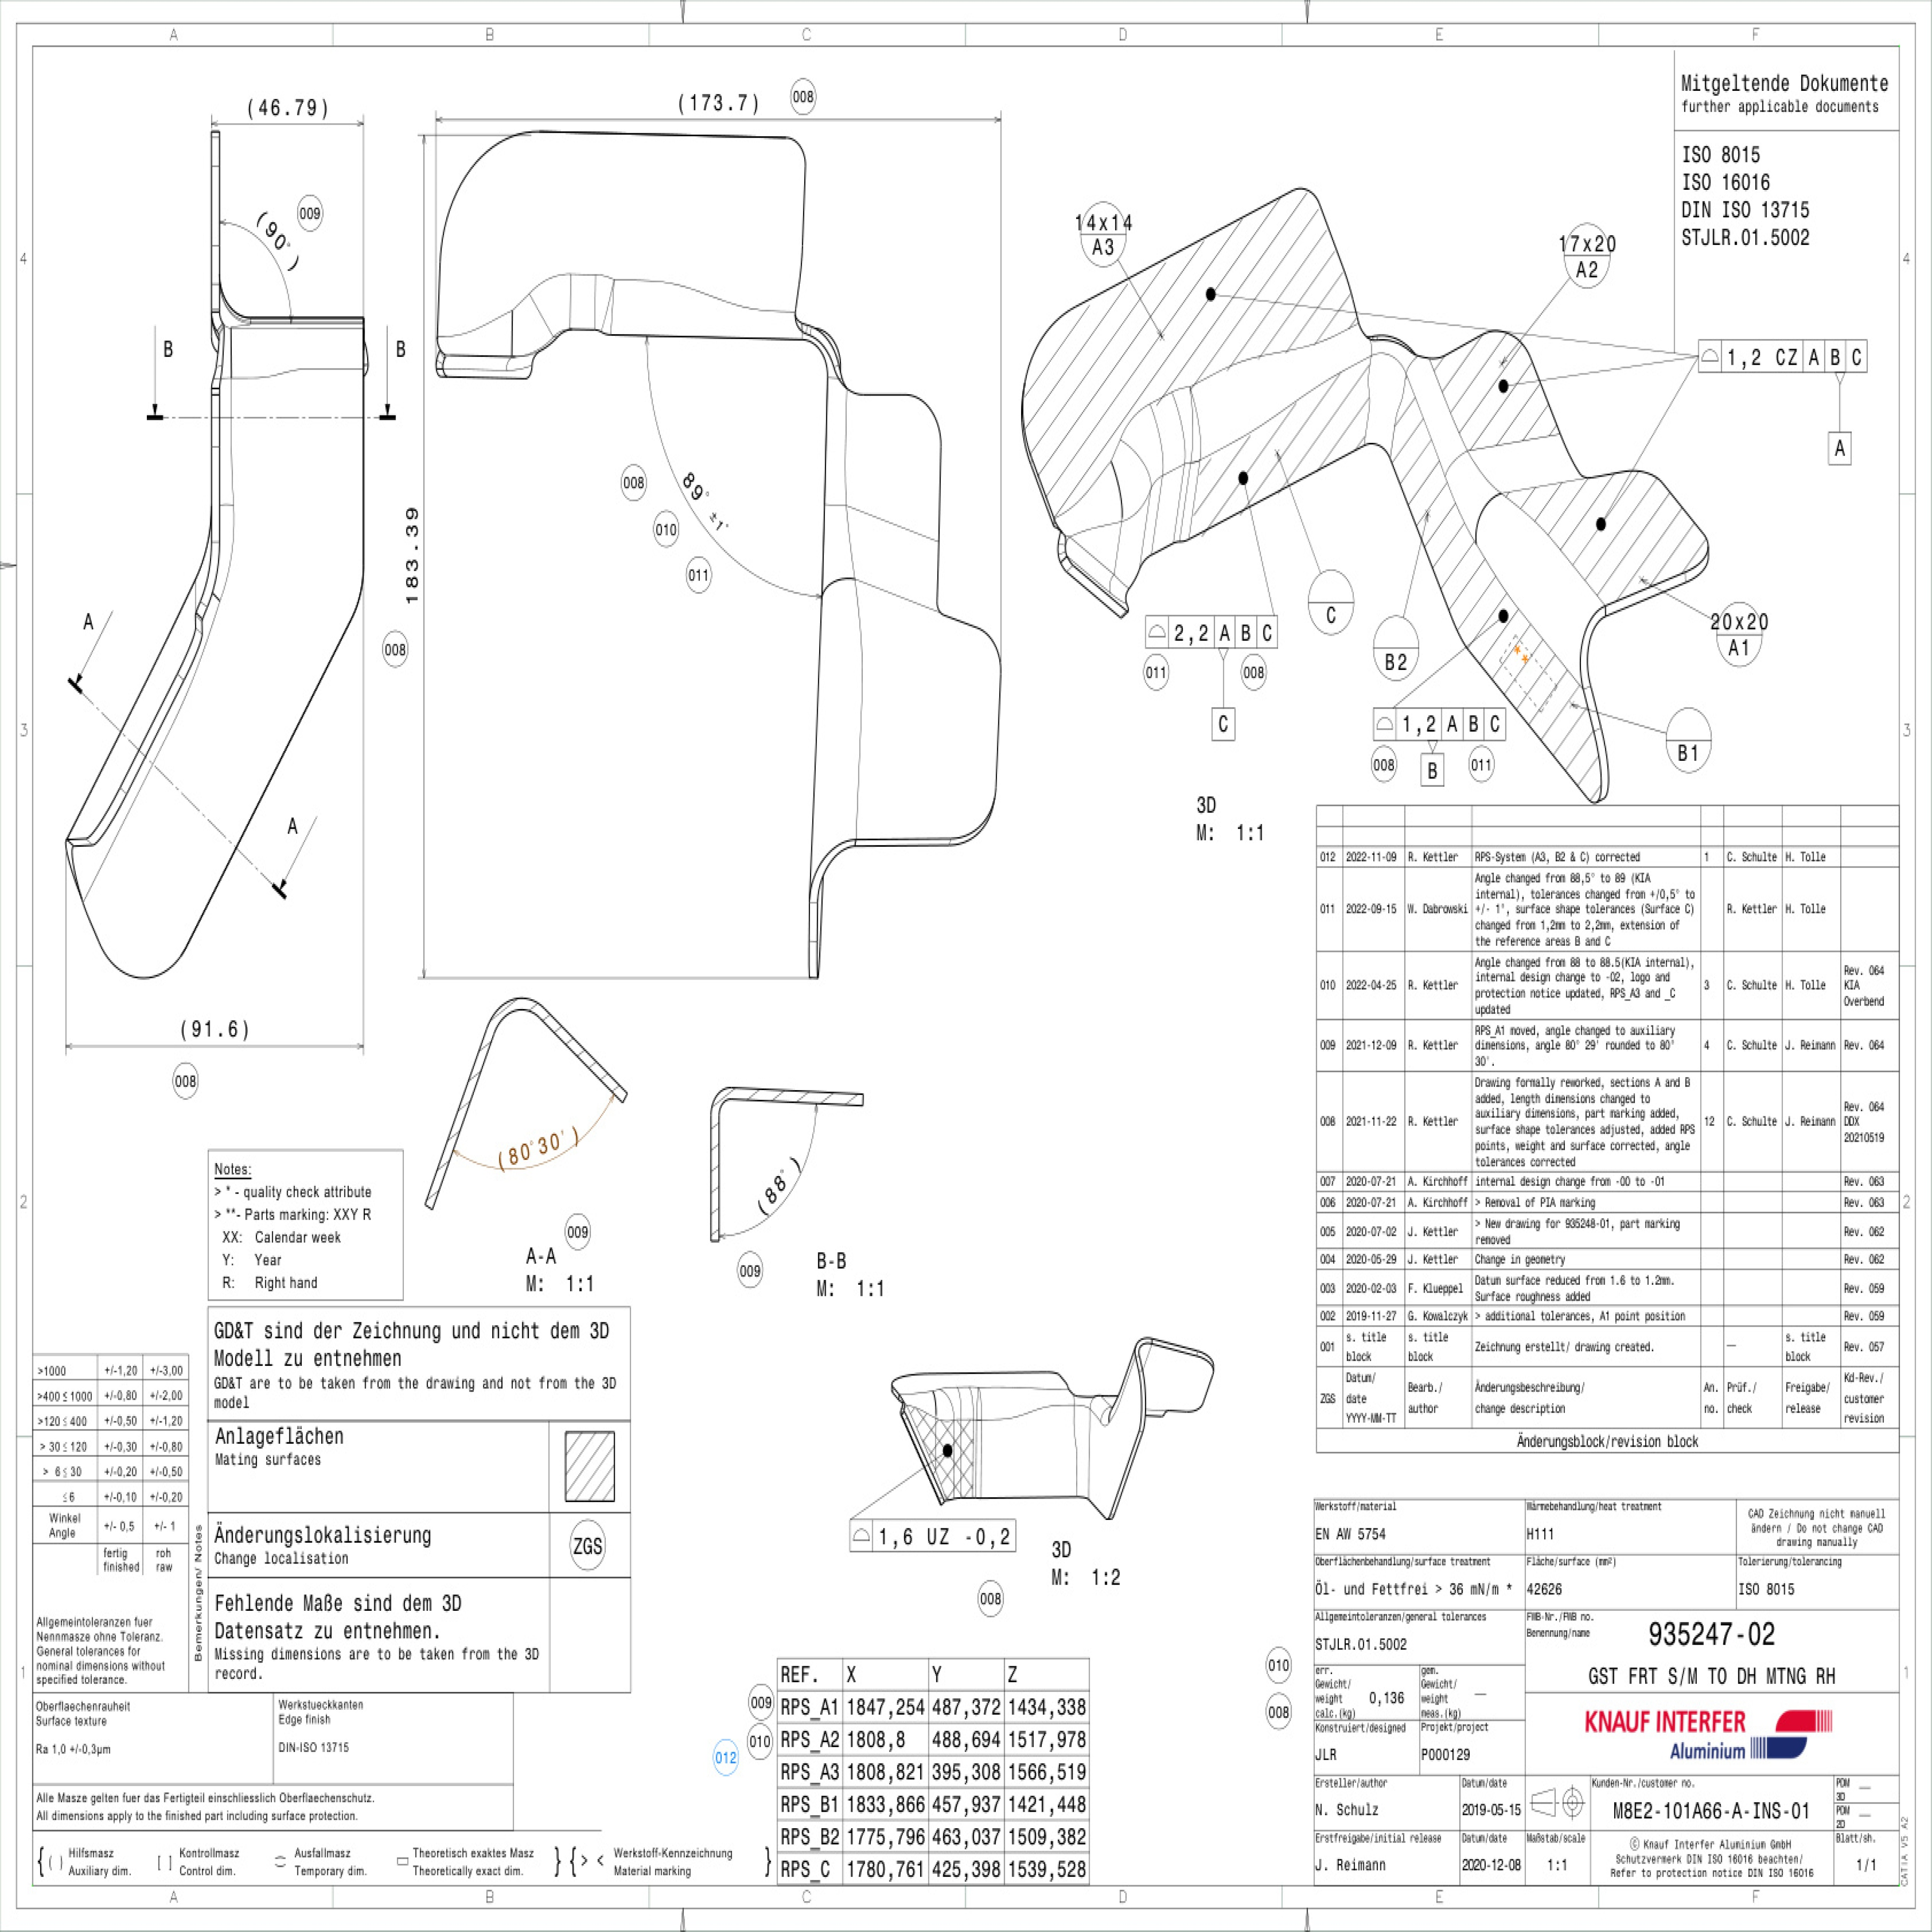BendingEdge: (1454, 485, 1619, 658), (1185, 311, 1385, 442), (801, 580, 865, 883), (610, 274, 800, 345), (1399, 356, 1476, 476), (1054, 469, 1136, 547), (485, 283, 561, 364), (525, 262, 584, 340), (428, 345, 540, 386), (817, 497, 860, 602), (1438, 456, 1500, 525), (823, 372, 849, 515), (1116, 403, 1169, 474), (435, 308, 524, 343), (1102, 437, 1154, 492), (1148, 398, 1189, 465), (586, 271, 619, 336), (568, 269, 600, 338), (803, 326, 847, 368), (1175, 395, 1203, 455), (1375, 336, 1415, 364)
